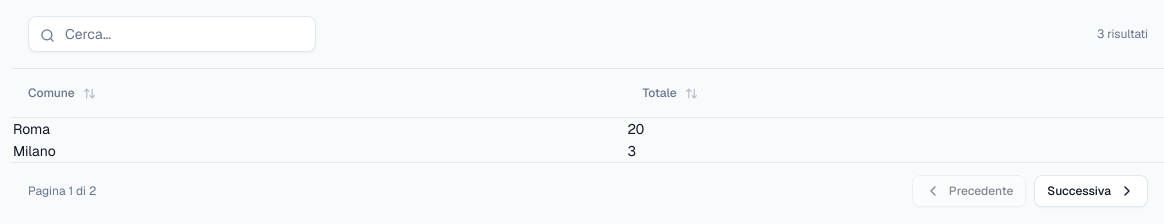
Test: paginates and disables navigation at the boundaries
The image size is (1164, 224).
Expected: the button with aria-label "Pagina precedente" is disabled, x1=912 y1=175 x2=1026 y2=207
Click the button with aria-label "Pagina successiva" at (1091, 191), box x1=1034 y1=175 x2=1148 y2=207
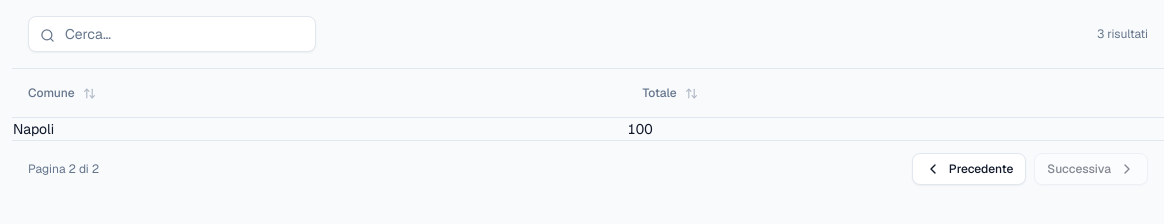
Expected: the button with aria-label "Pagina successiva" is disabled, x1=1034 y1=153 x2=1148 y2=185
